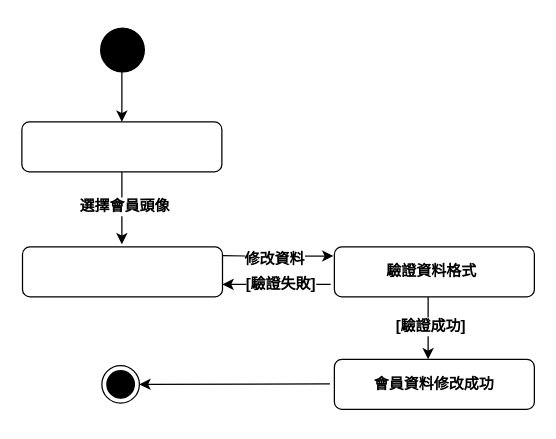
Some shapes in this 556 by 439 pixel diagram are drawn without their labels. Here are the shapes that lost their labels. From the top down, the centre of each, then its label:
the point at 121,146: 登入中
the point at 121,271: 會員資料
